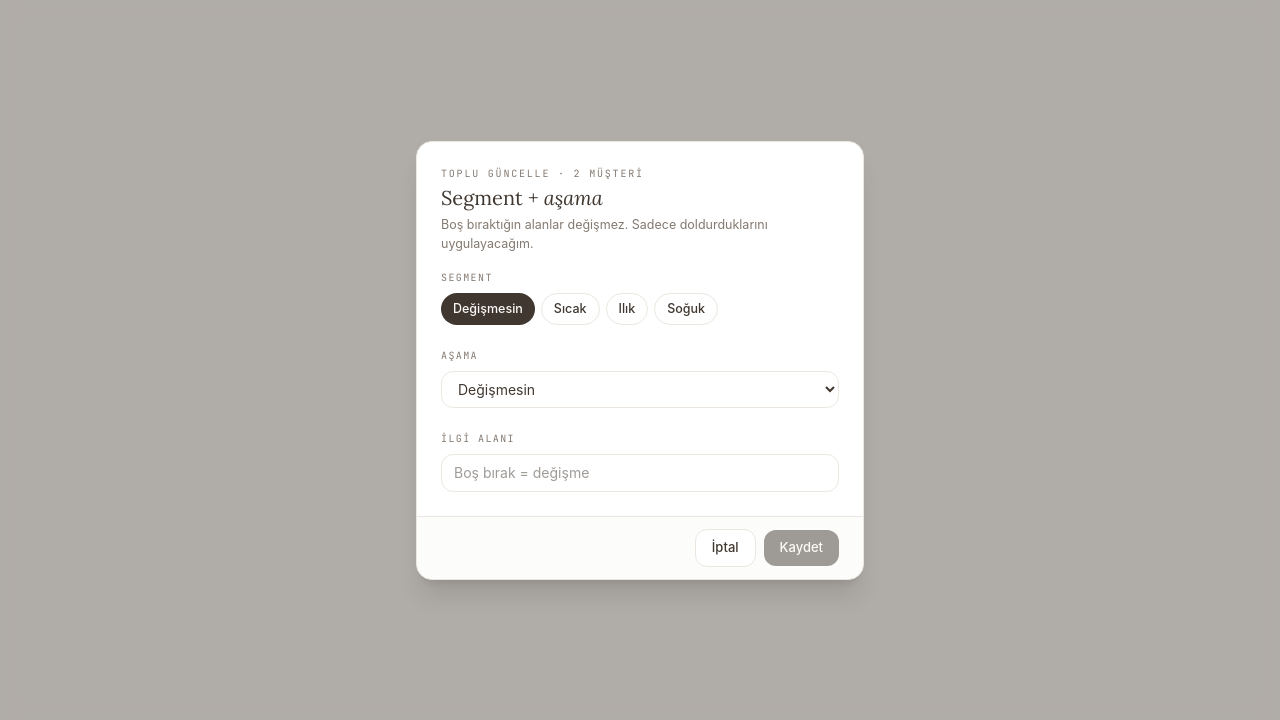
Test: BulkUpdateCustomerModal › enables submit after picking a segment
This screenshot has width=1280, height=720.
Click the radio button with test id "bulk-update-segment-Sıcak" at (570, 308), box [541,292,600,325]
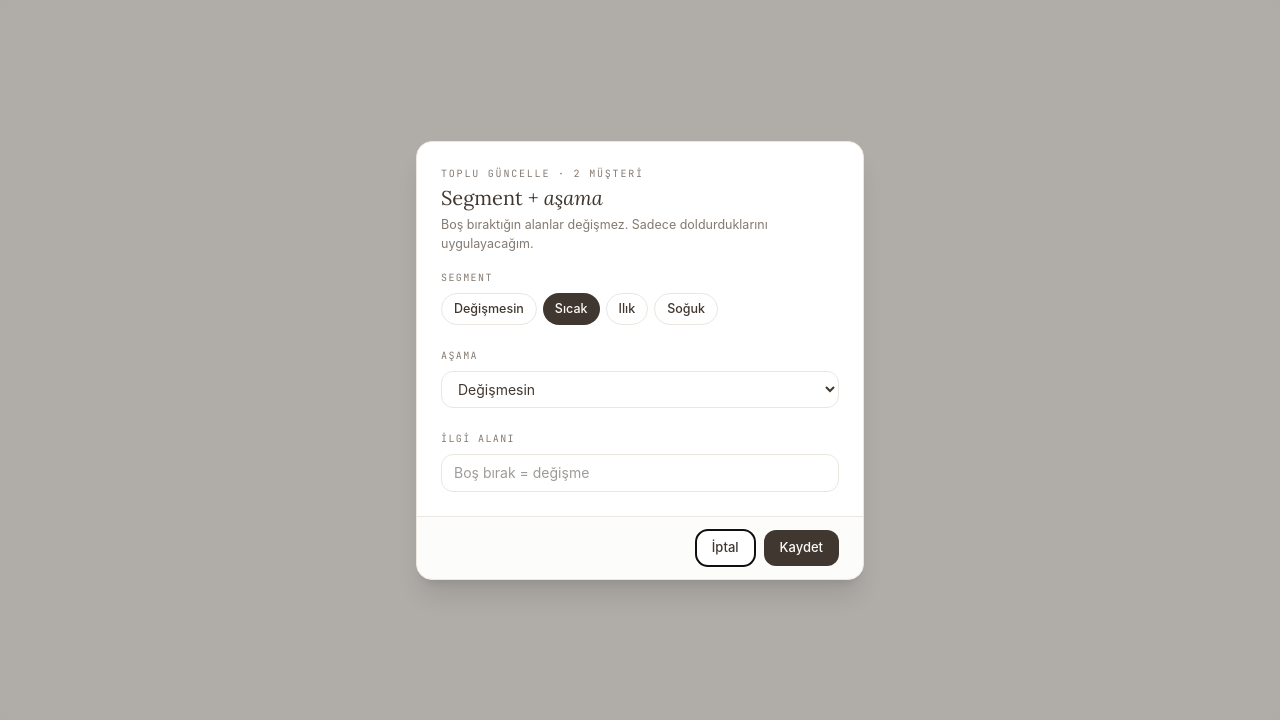
Check: the button with test id "bulk-update-customer-confirm" is enabled, box [764,530,839,565]
